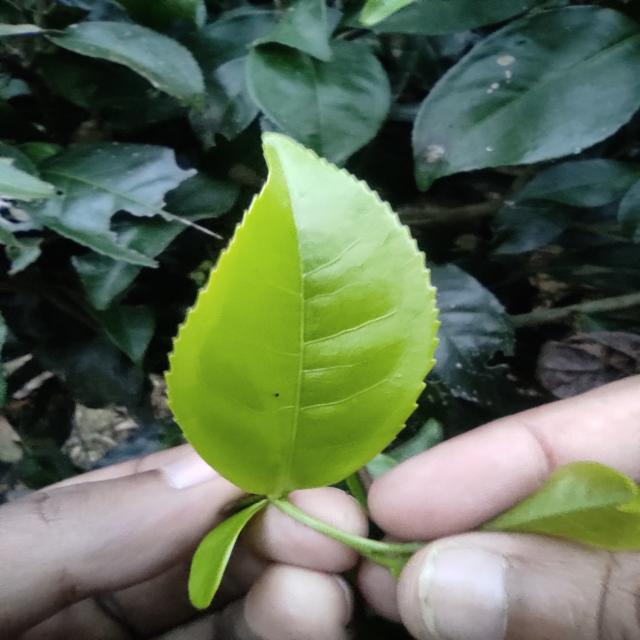Category C(4-7 days): (145, 110, 456, 534)
